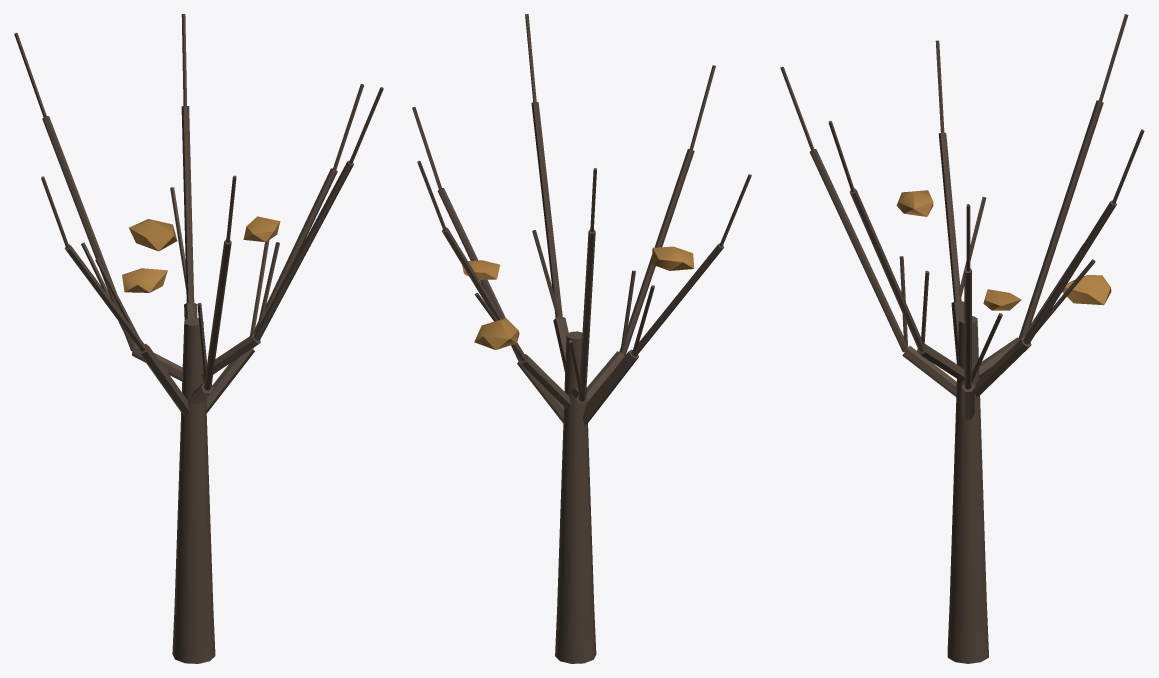
Rendered from tree_bare.glb.
3 renders of one model, left to right at view 1: azimuth 30°, elevation 25°; view 2: azimuth 150°, elevation 25°; view 3: azimuth 270°, elevation 25°, orthographic. The views are drawn at different scales.
Visible parts, largest first — view 1: tree_mesh; view 2: tree_mesh; view 3: tree_mesh.
Boxes of the visible parts, left/top/right/bottom form: tree_mesh: left=14, top=14, right=383, bottom=663; tree_mesh: left=412, top=14, right=751, bottom=663; tree_mesh: left=780, top=14, right=1144, bottom=663.
Size of what is drawn, in the model's own units: 3.61 by 6.01 by 3.35.
